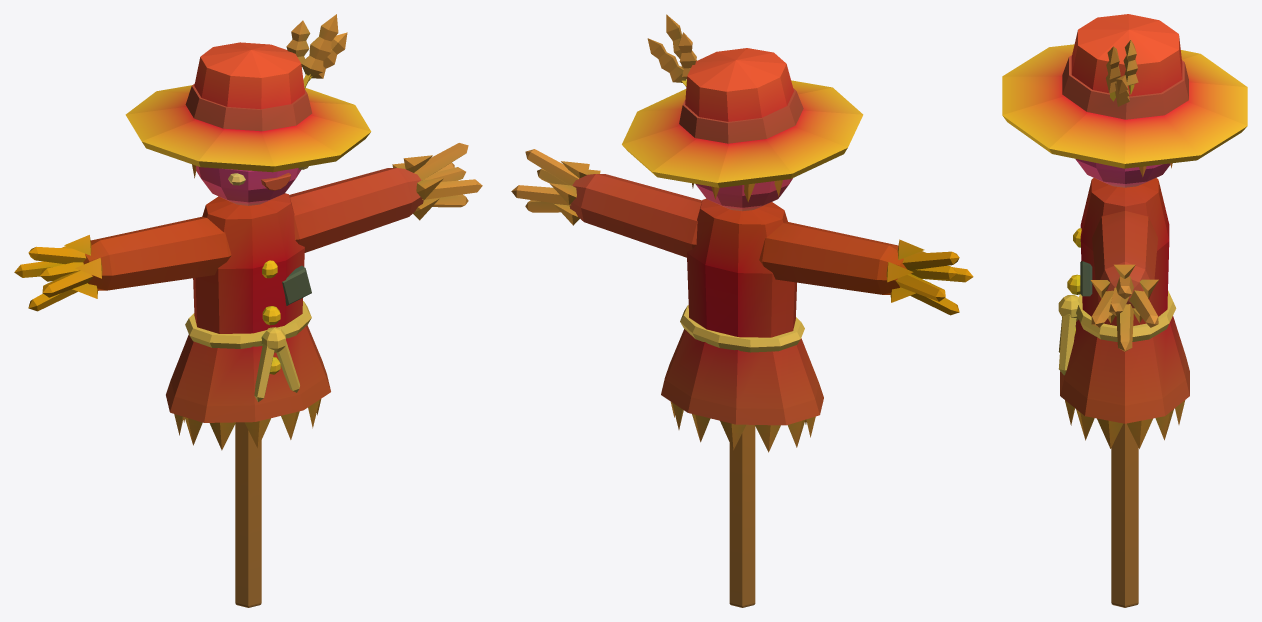
File: Farm_Scarecrow.glb
3 views of the same model, side by side, from view 1: azimuth 30°, elevation 25°; view 2: azimuth 150°, elevation 25°; view 3: azimuth 270°, elevation 25° (orthographic). The views are drawn at different scales.
Parts seen in each view (by area): view 1: Farm_Scarecrow; view 2: Farm_Scarecrow; view 3: Farm_Scarecrow.
Part boxes in pixels (left/top/right/bottom): Farm_Scarecrow: left=14, top=14, right=482, bottom=607; Farm_Scarecrow: left=511, top=14, right=973, bottom=607; Farm_Scarecrow: left=1002, top=14, right=1247, bottom=607.
Bounding box in the file's own units: 1.85 × 2.3 × 0.8549.
